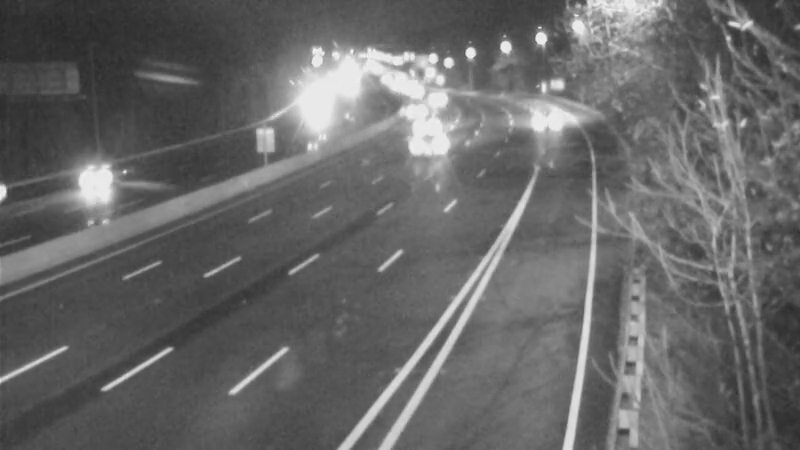vehicle: (49, 139, 129, 219), (393, 69, 443, 119), (413, 74, 463, 124), (513, 92, 563, 142), (385, 89, 435, 139), (393, 102, 443, 152), (402, 125, 452, 175)
